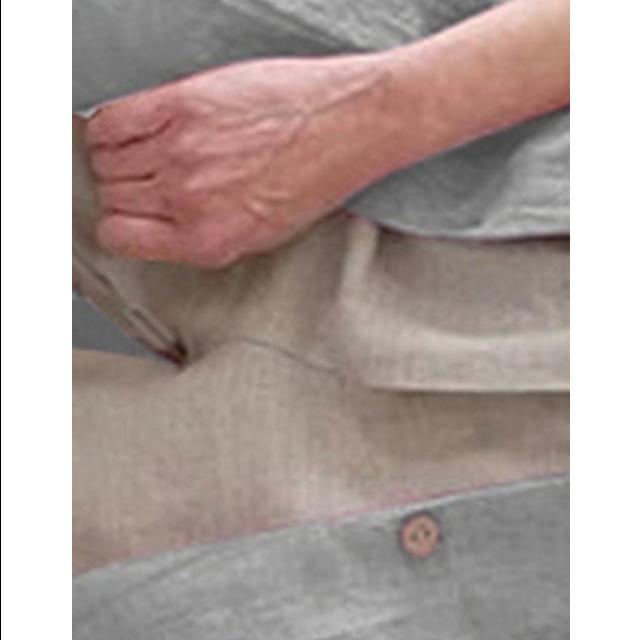linen: (71, 0, 569, 640)
